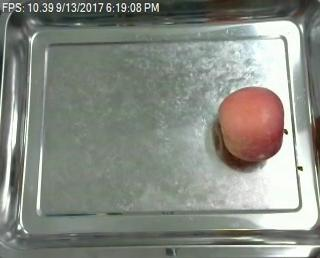apple: (217, 86, 289, 164)
